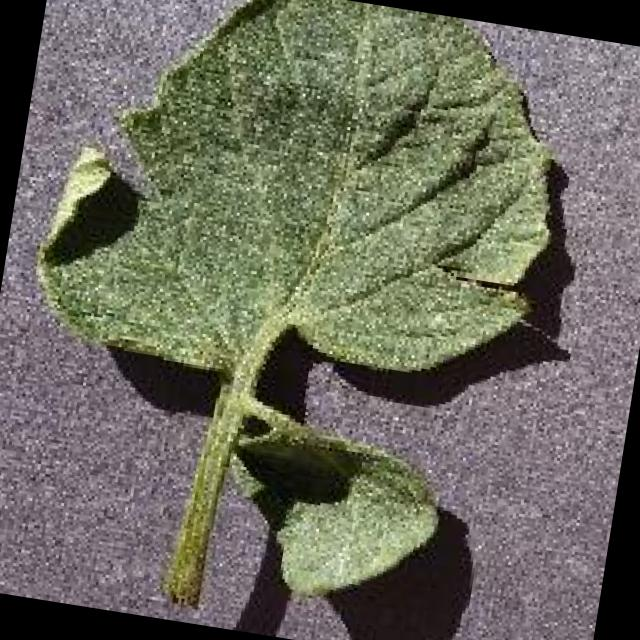healthy: (39, 0, 553, 600)
